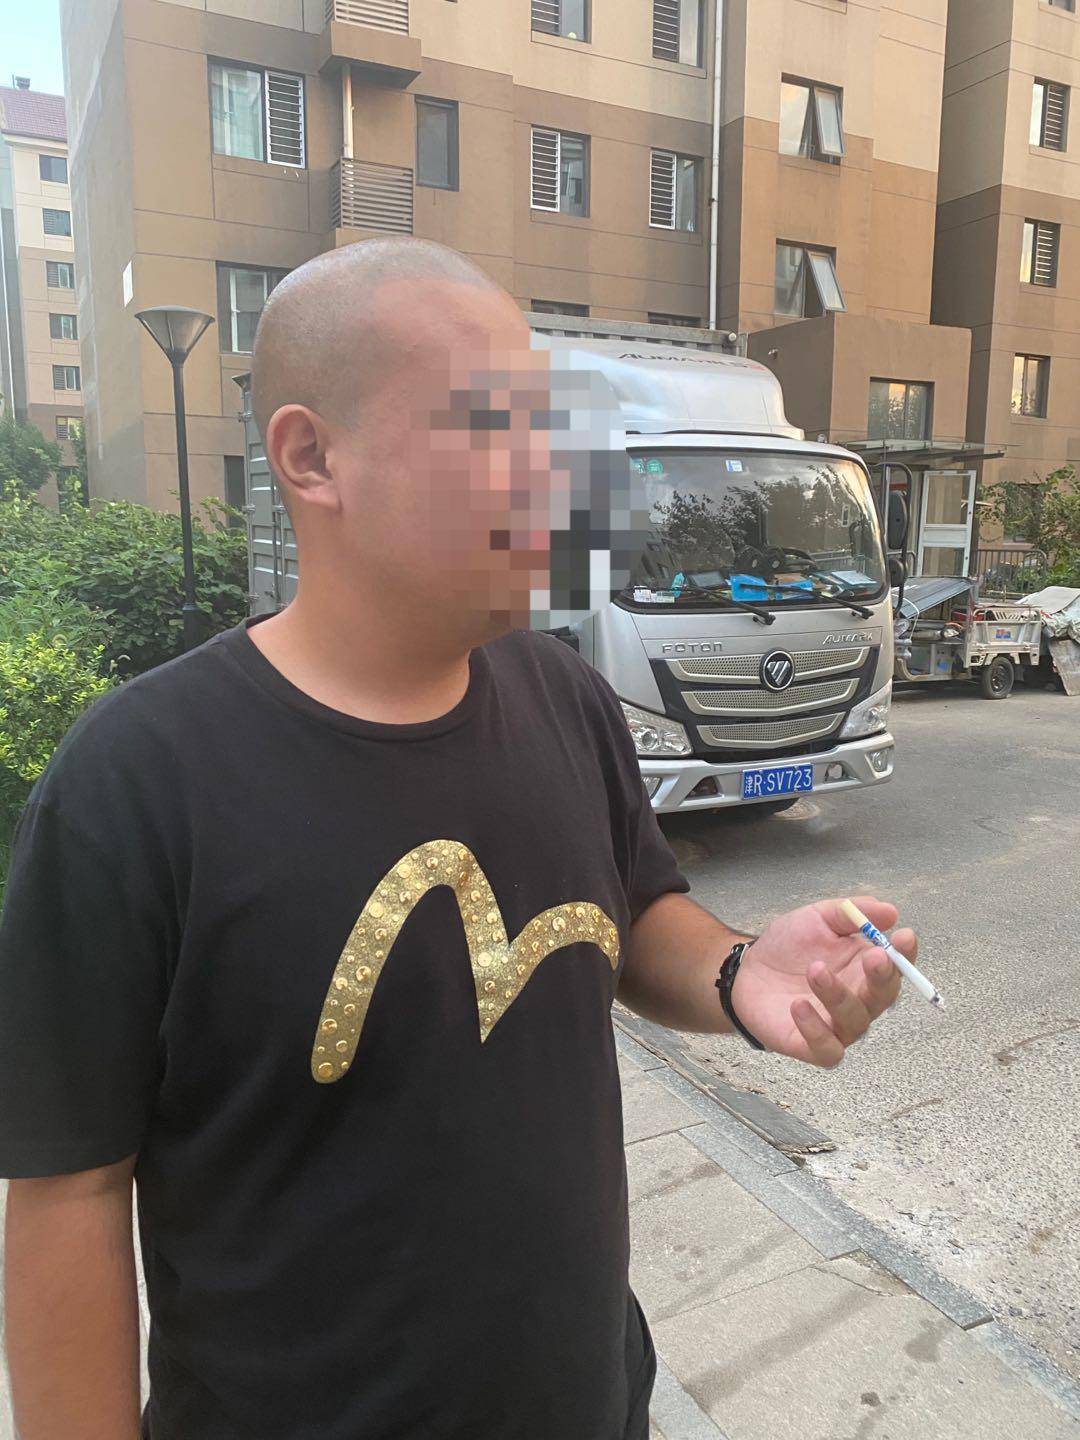smoke: (835, 893, 953, 1018)
